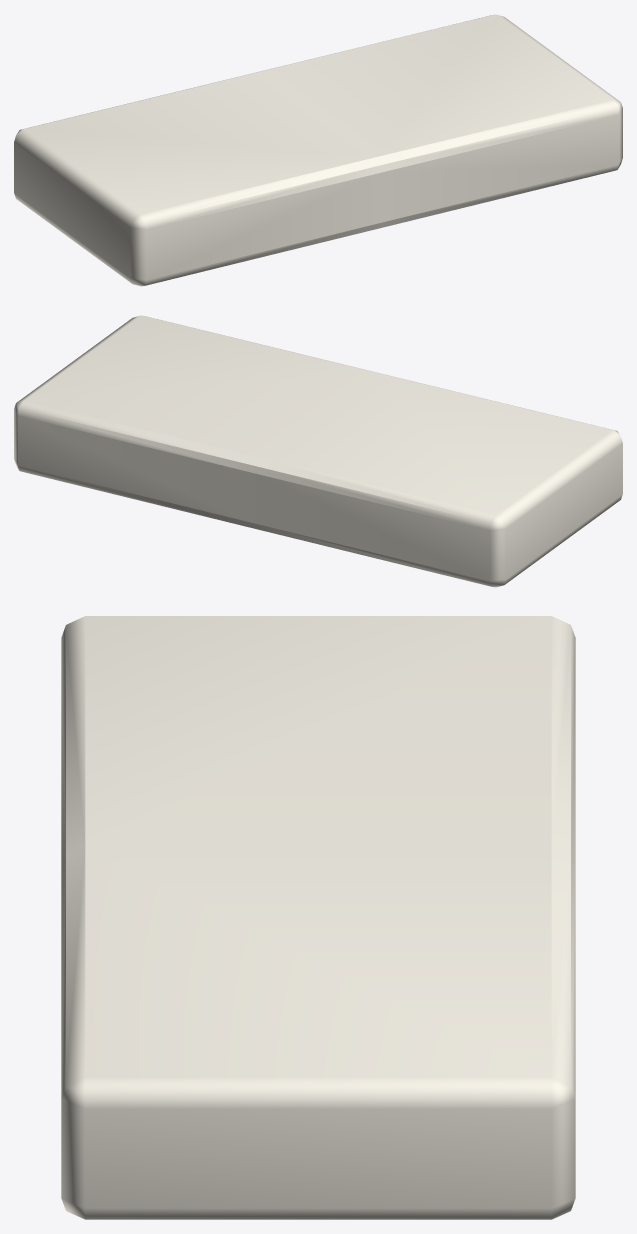
The picture shows the model from 3 angles, top to bottom: view 1: azimuth 30°, elevation 25°; view 2: azimuth 150°, elevation 25°; view 3: azimuth 270°, elevation 25°; orthographic projection. The views are drawn at different scales.
Parts seen in each view (by area): view 1: domino:domino:domino:domino:polySurface22; view 2: domino:domino:domino:domino:polySurface22; view 3: domino:domino:domino:domino:polySurface22.
Part boxes in pixels (<box>): domino:domino:domino:domino:polySurface22: <box>14,14,622,286</box>; domino:domino:domino:domino:polySurface22: <box>14,315,622,587</box>; domino:domino:domino:domino:polySurface22: <box>61,616,575,1219</box>.
Bounding box in the file's own units: 3.28 × 0.4593 × 1.48.
1 material, 1 textured.
